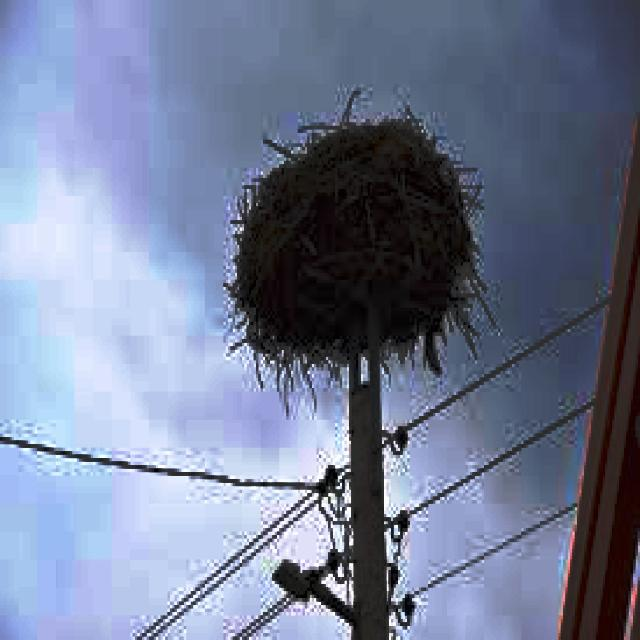obstruction: (233, 119, 482, 371)
poles: (272, 308, 386, 637)
wires: (0, 420, 314, 637), (405, 290, 607, 427), (410, 395, 593, 511), (414, 500, 575, 591), (230, 595, 291, 637)
